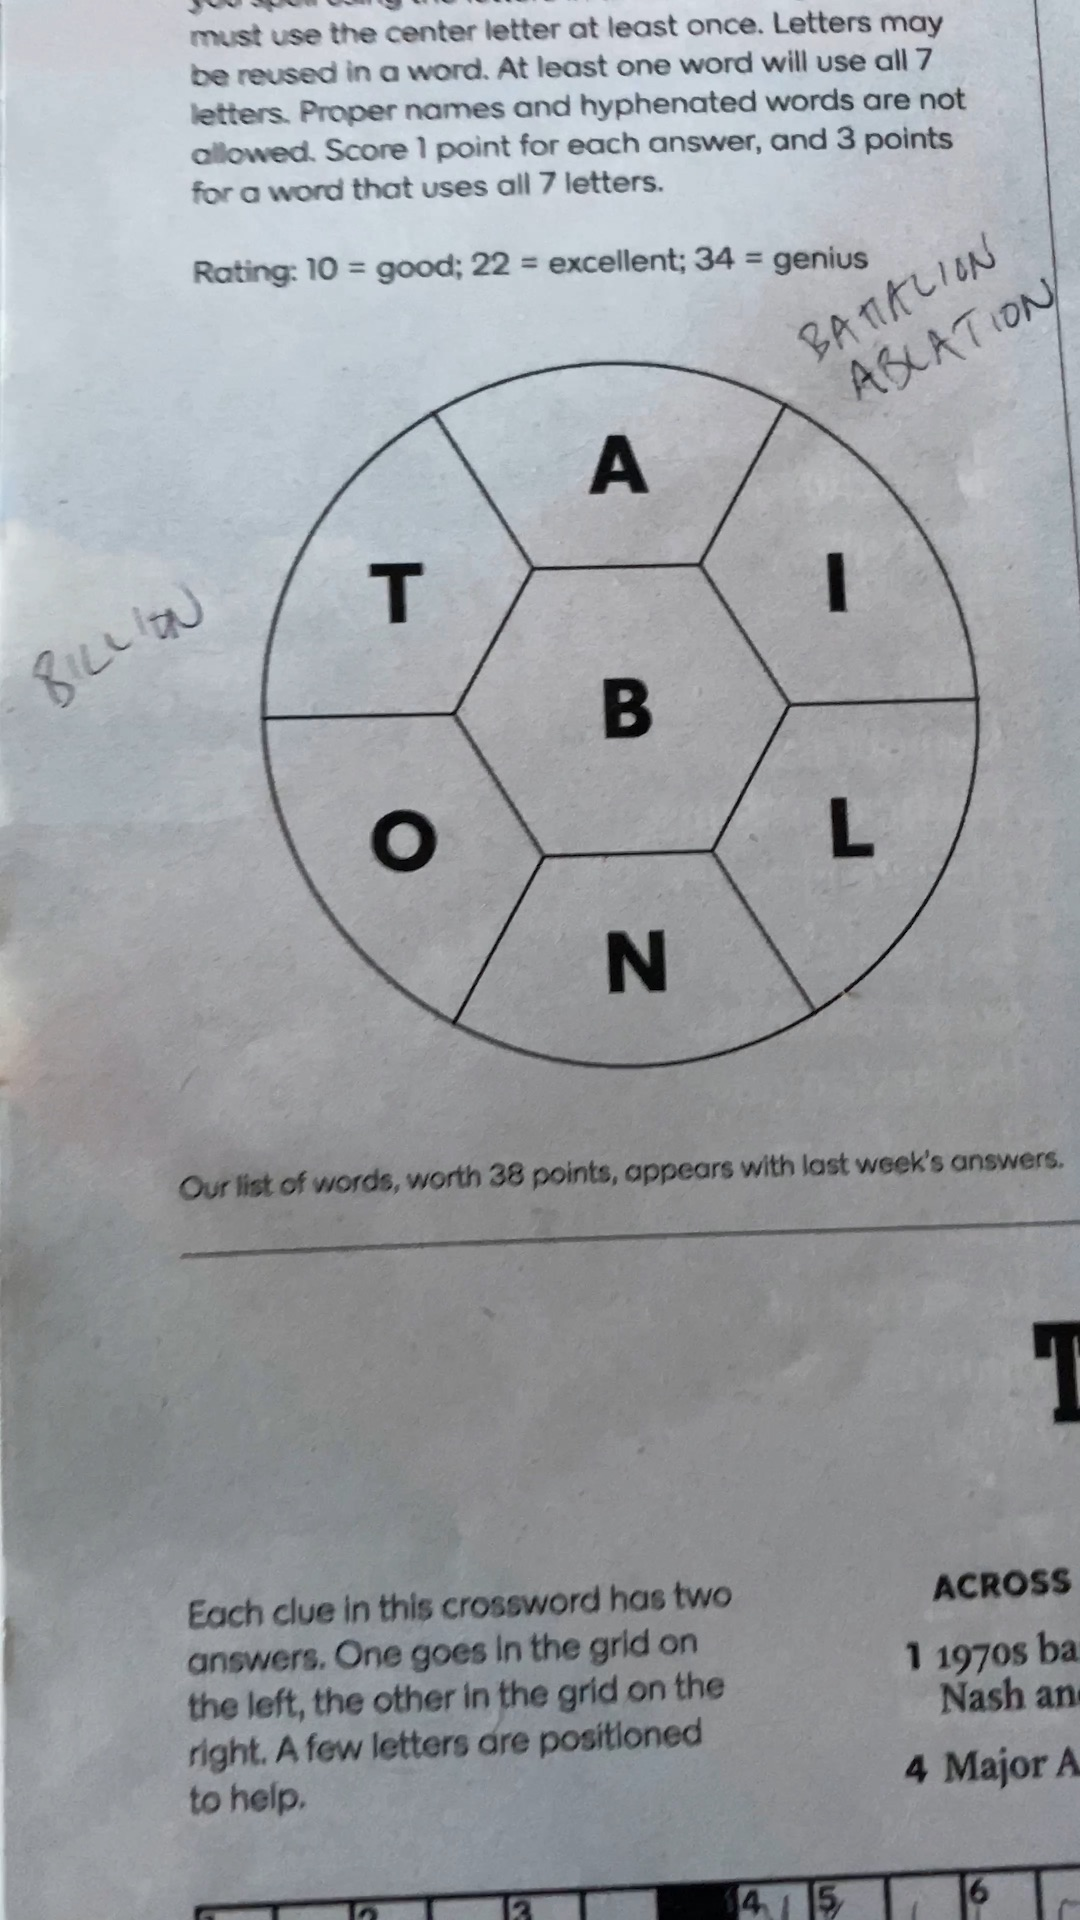Board: (233, 345, 1000, 1088)
